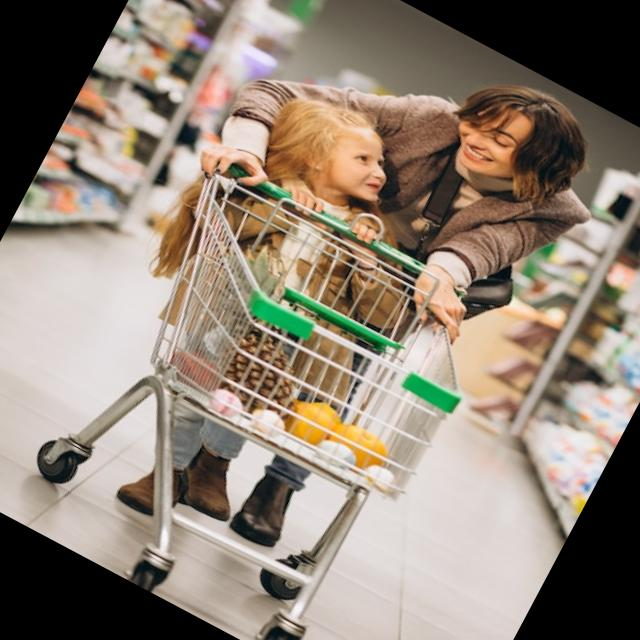Person: (53, 0, 633, 611), (38, 59, 476, 579)
